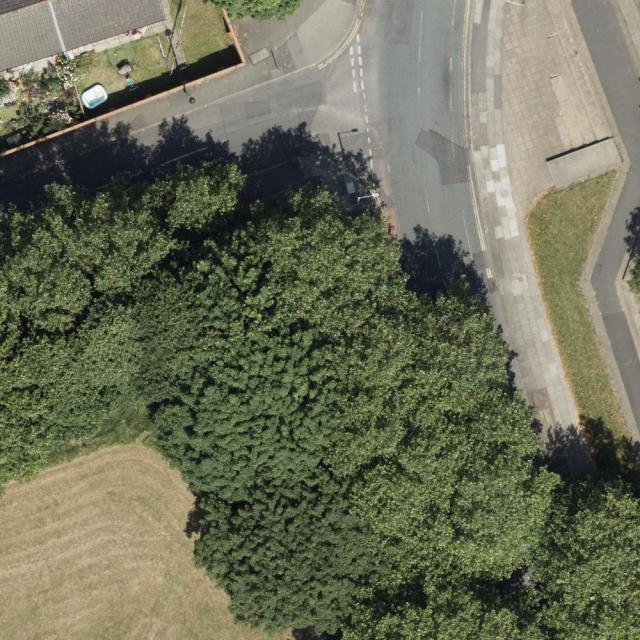roof: (0, 0, 168, 73)
